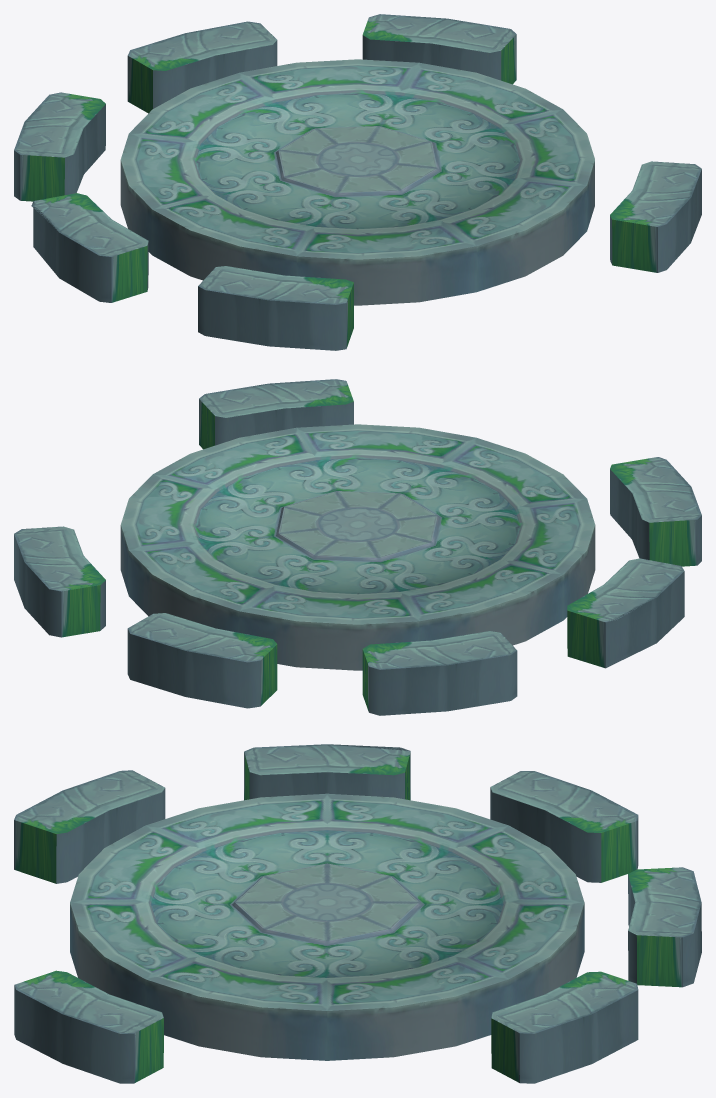
The model's file is mld_platform_01.FBX.
The picture shows the model from 3 angles, top to bottom: view 1: azimuth 30°, elevation 25°; view 2: azimuth 150°, elevation 25°; view 3: azimuth 270°, elevation 25°; orthographic projection. The views are drawn at different scales.
Parts seen in each view (by area): view 1: mld_platform_01; view 2: mld_platform_01; view 3: mld_platform_01.
Boxes of the visible parts, box(x1,y1,x2,y2) form: mld_platform_01: box(14, 14, 701, 350); mld_platform_01: box(14, 379, 701, 715); mld_platform_01: box(14, 744, 701, 1083).
Size of the model in its own units: 1823 by 146 by 1830.
